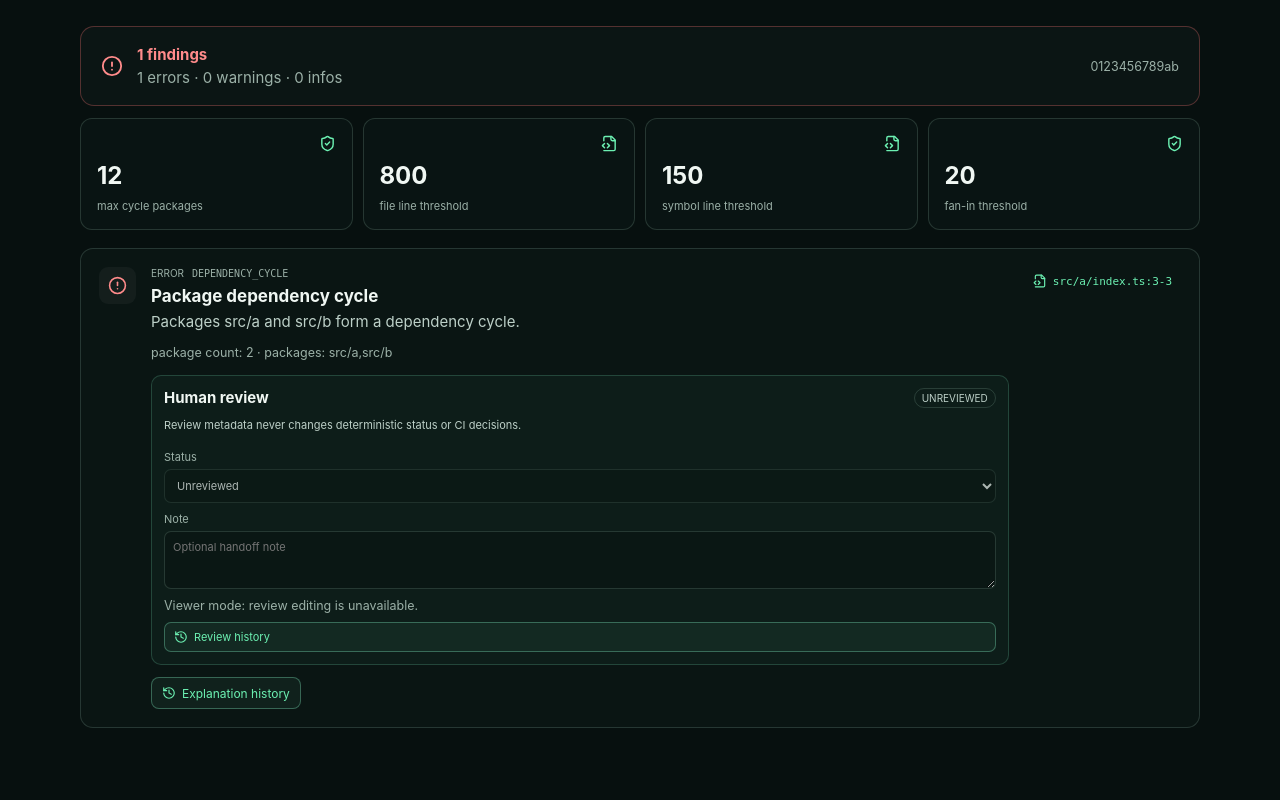
Scenario: GuardrailsPanel › lets Viewers read an empty explanation history without exposing AI generation
(page scrolled)
Click the button "Explanation history".
click(226, 693)  # box [151,677,301,709]
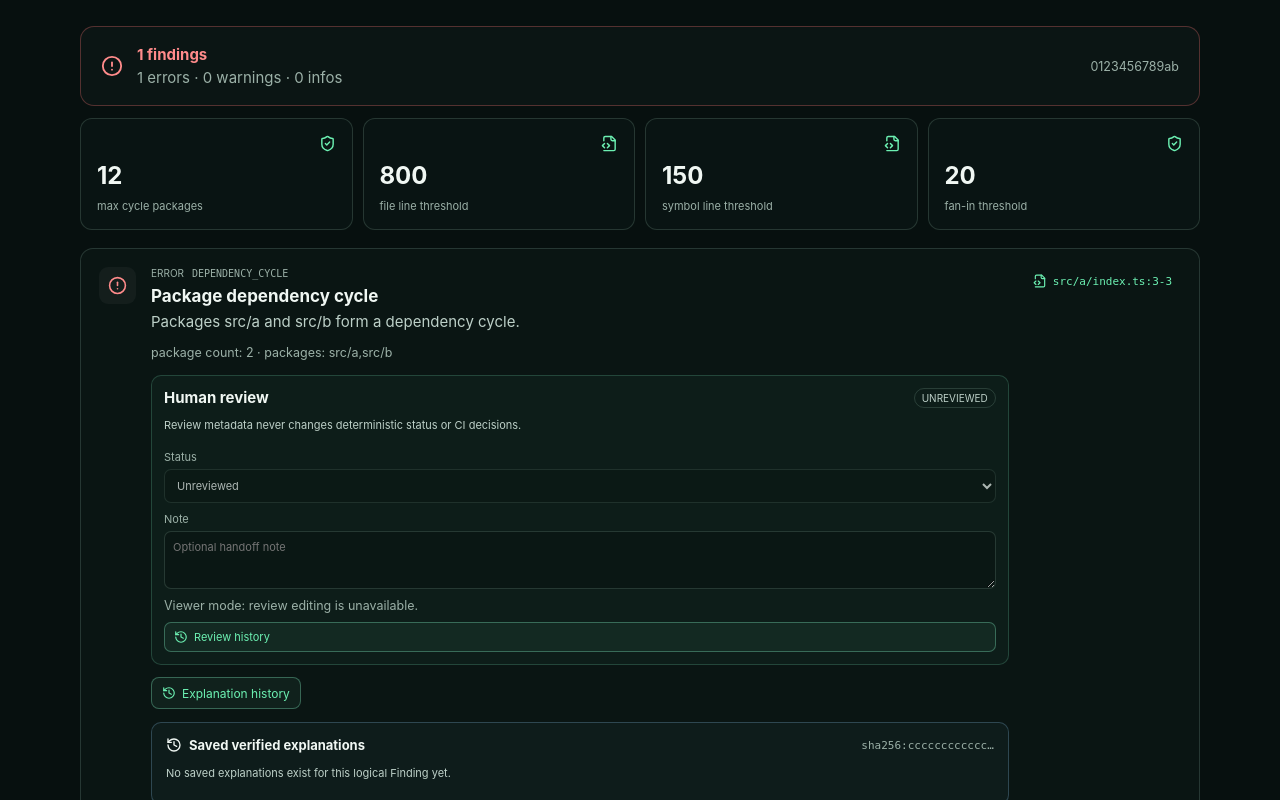
expect the text "No saved explanations exist for this logical Finding yet." is shown: met, box [166,766,451,780]
